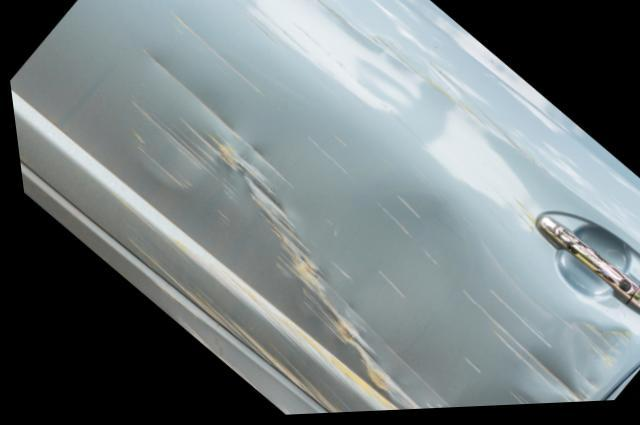dent: (113, 44, 620, 412)
scratch: (107, 205, 389, 417), (230, 0, 537, 182)
